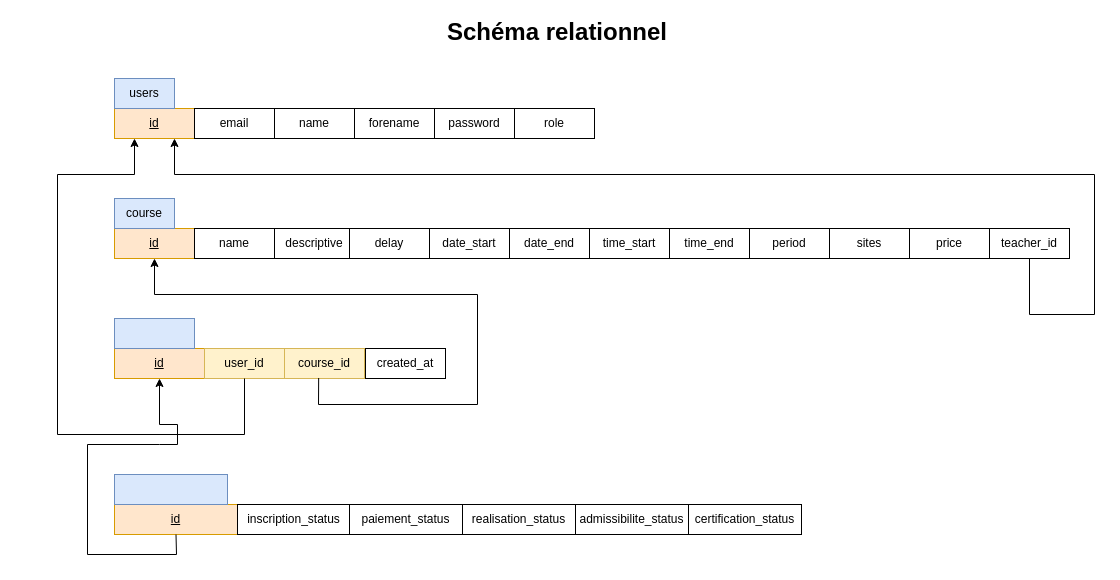
The diagram is 1120 pixels wide and 580 high, and some of its shapes have lost their labels. Each missing label, with the centre of its shape:
"enrollement" goes at pixel 154 333.
"enrollementstatus" goes at pixel 171 489.
